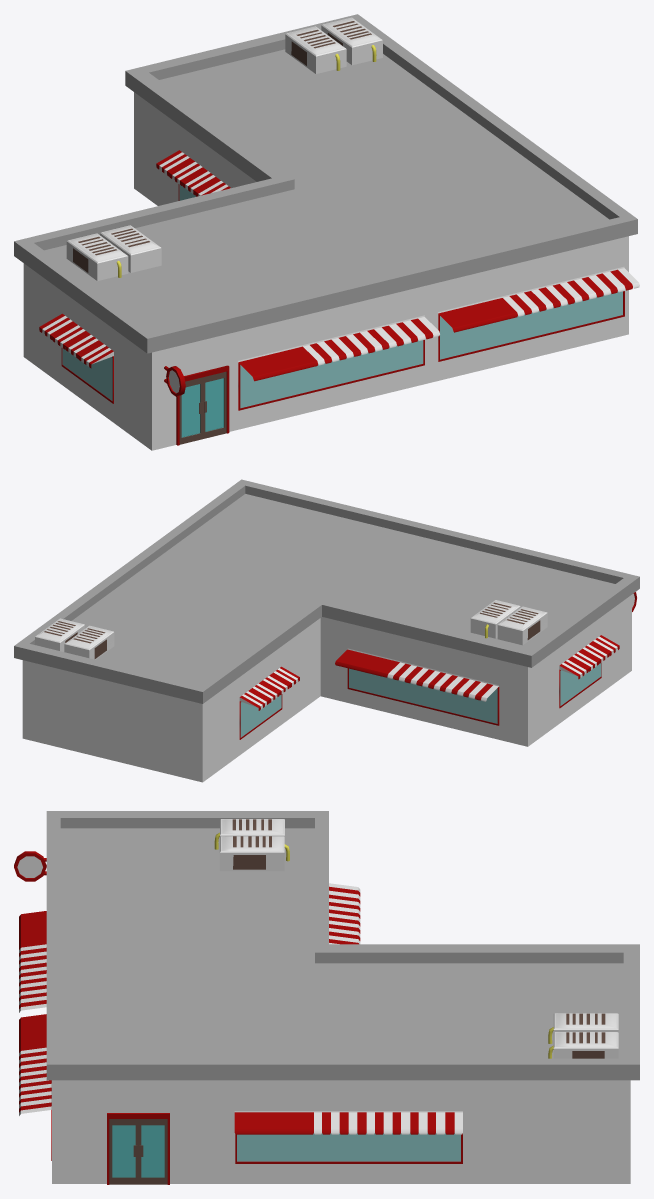
Rendered from Building_1Story_Mod_3.fbx.
The picture shows the model from 3 angles, top to bottom: view 1: azimuth 30°, elevation 25°; view 2: azimuth 150°, elevation 25°; view 3: azimuth 270°, elevation 25°; orthographic projection. The views are drawn at different scales.
Parts seen in each view (by area): view 1: Roof8, Building386, Windows2, Aircon20, Aircon26, Aircon25, Aircon19, Door41, Door40; view 2: Roof8, Building386, Windows2, Aircon20, Aircon26, Aircon19, Aircon25; view 3: Roof8, Building386, Windows2, Aircon19, DoorLeft7, DoorRight9, Aircon25, Aircon26, Aircon20, Sign7.
Boxes of the visible parts, box(x1,y1,x2,y2) form: Roof8: box(14, 14, 637, 353); Building386: box(23, 92, 628, 450); Windows2: box(39, 150, 639, 410); Aircon20: box(66, 233, 128, 280); Aircon26: box(285, 26, 346, 73); Aircon25: box(321, 17, 382, 65); Aircon19: box(100, 225, 161, 272); Door41: box(203, 371, 226, 438); Door40: box(179, 377, 202, 444); Roof8: box(14, 479, 639, 703); Building386: box(22, 595, 631, 782); Windows2: box(239, 635, 619, 739); Aircon20: box(497, 606, 547, 645); Aircon26: box(64, 625, 114, 659); Aircon19: box(470, 600, 520, 638); Aircon25: box(35, 618, 84, 651); Roof8: box(46, 811, 639, 1080); Building386: box(52, 1080, 630, 1184); Windows2: box(19, 883, 462, 1163); Aircon19: box(219, 836, 289, 871); DoorLeft7: box(109, 1119, 138, 1184); DoorRight9: box(138, 1119, 167, 1184); Aircon25: box(548, 1032, 618, 1058); Aircon26: box(548, 1013, 618, 1043); Aircon20: box(214, 819, 284, 853); Sign7: box(14, 851, 46, 881).
Bounding box in the file's own units: 18.95 × 4.32 × 18.39.
